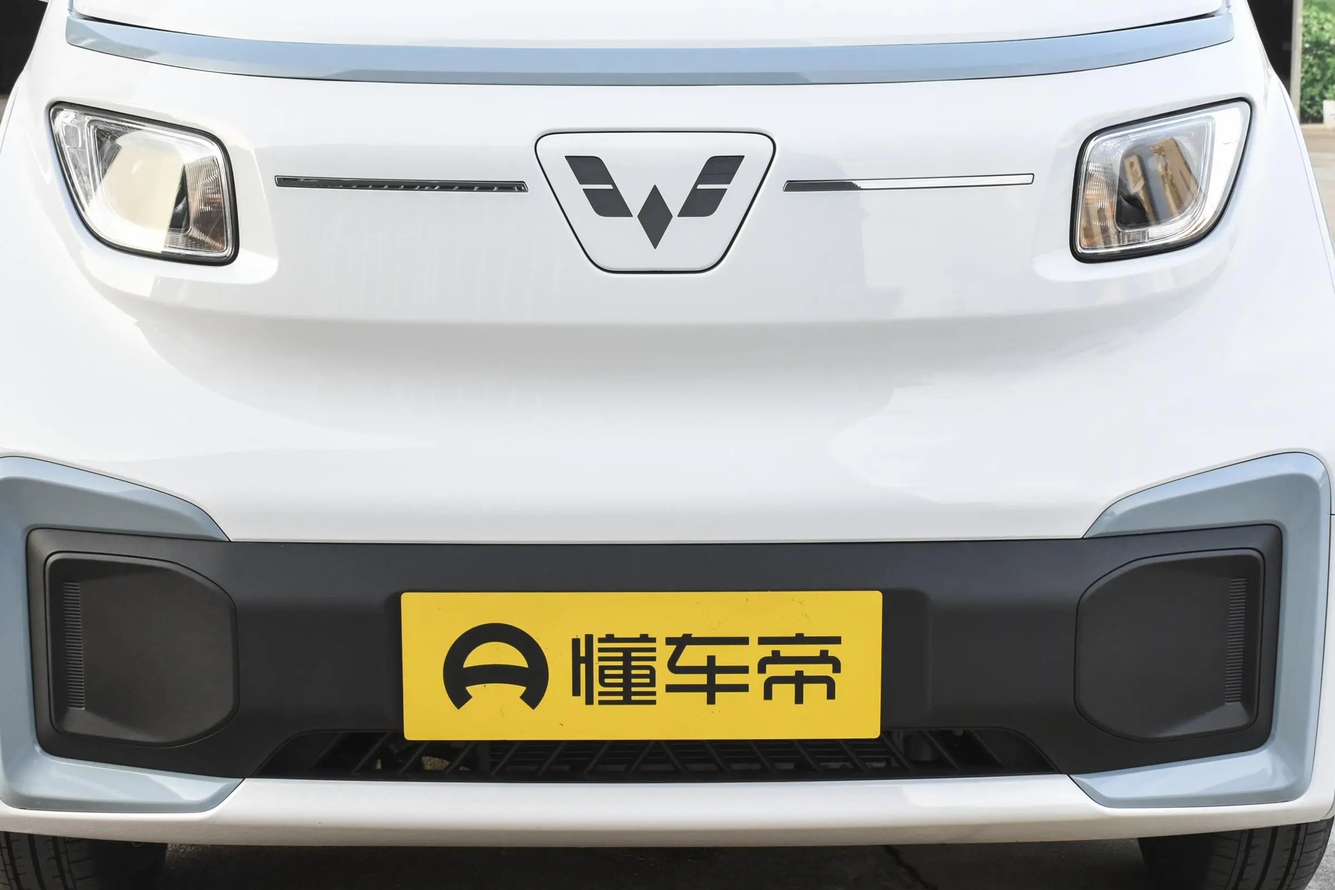SGMW: (565, 156, 744, 249)
